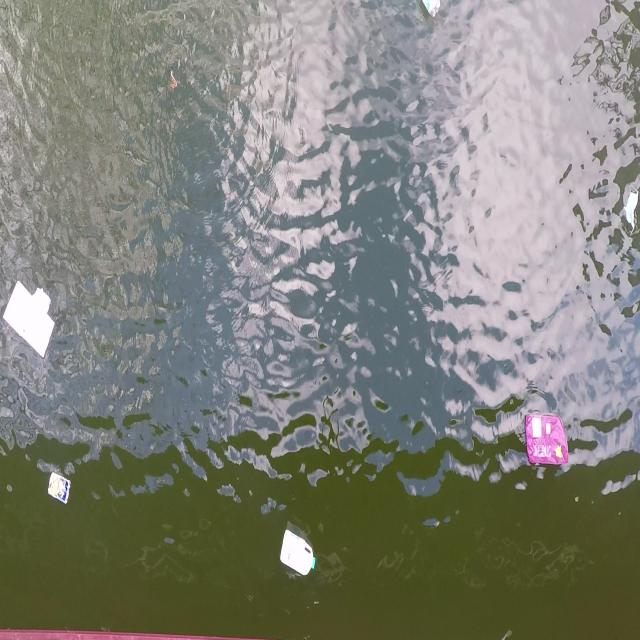Autre plastique: (0, 271, 59, 361), (44, 464, 75, 511)
Bouteille plastique: (276, 524, 322, 588)
Sac plastique: (517, 405, 576, 477)
